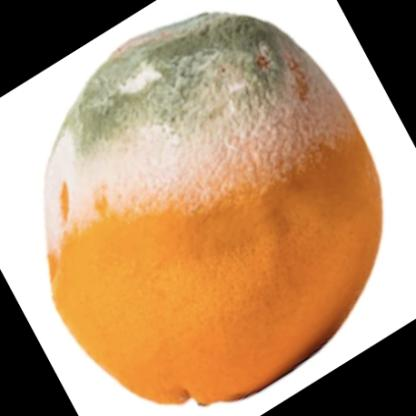rotten: (44, 12, 384, 408)
